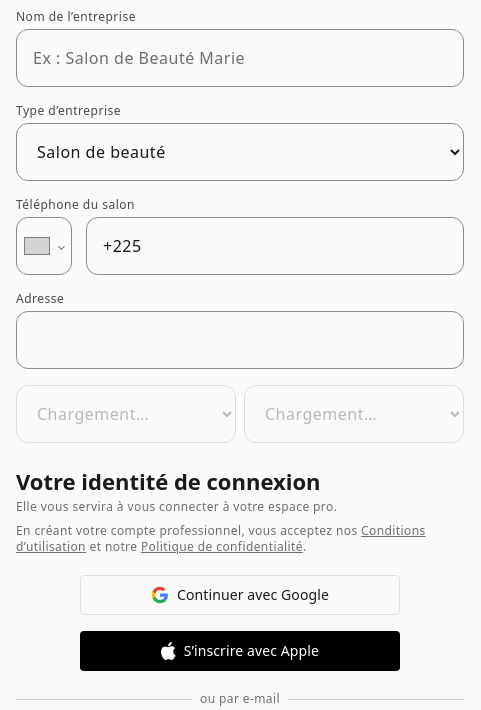
Test case: ProRegisterClient — « Téléphone du salon » › 7 digits after +225: says how many — and no code is sent
This screenshot has width=481, height=710.
Type "Salon Awa" into the field labelled "Nom de l’entreprise" at (240, 58), box [16, 29, 464, 87]
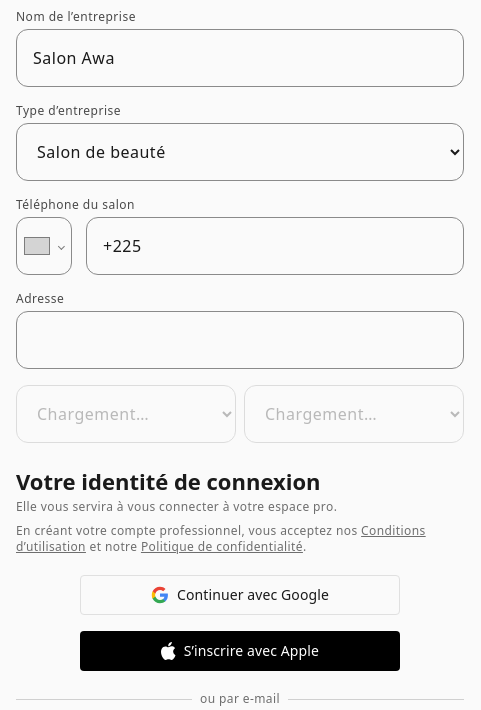
Type "Rue des Jardins, Cocody" into the field labelled "Adresse" at (240, 340), box [16, 311, 464, 369]
(page scrolled)
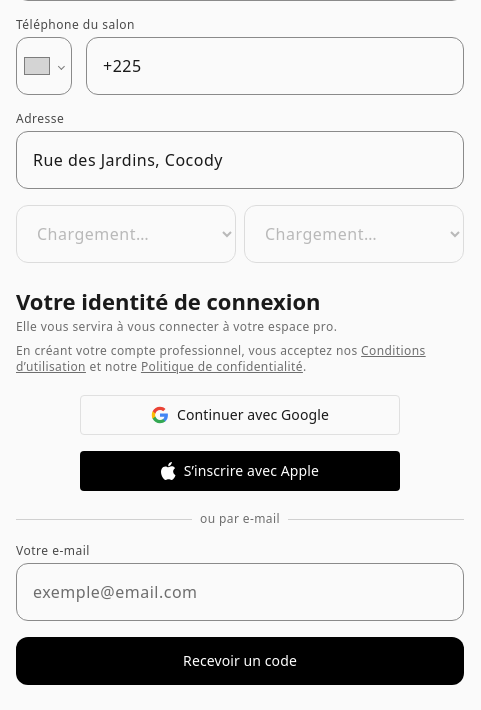
Type "awa@salon.ci" into the field labelled "Votre e-mail" at (240, 592), box [16, 563, 464, 621]
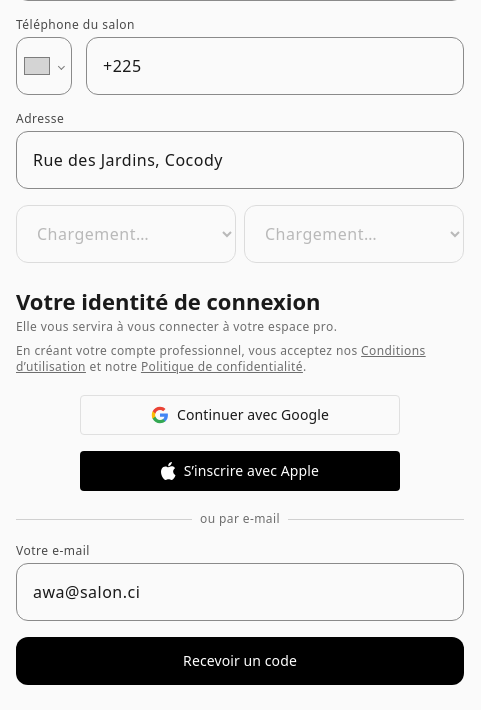
Replace the text in the field labelled "Téléphone du salon" with "+2250700000" at (275, 66), box [86, 37, 464, 95]
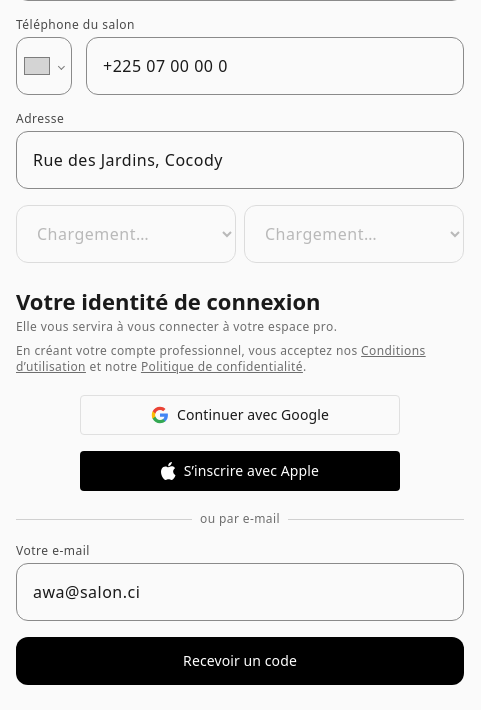
Click the button "Recevoir un code" at (240, 661), box [16, 637, 464, 685]
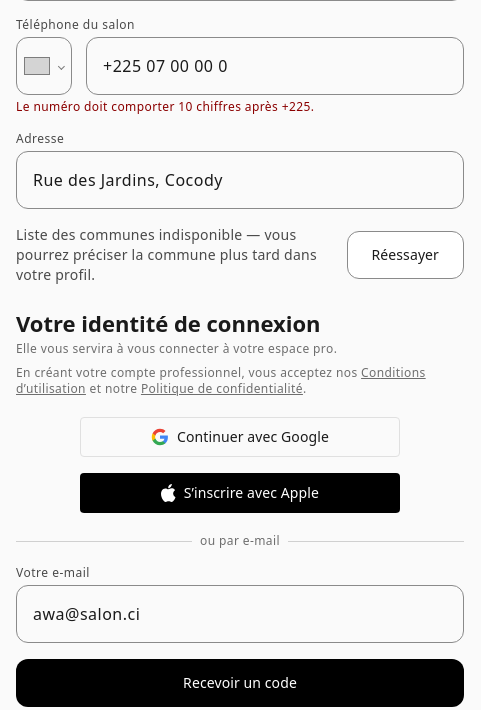
Expected: the message reads "Le numéro doit comporter 10 chiffres après +225.", [16, 98, 314, 115]
